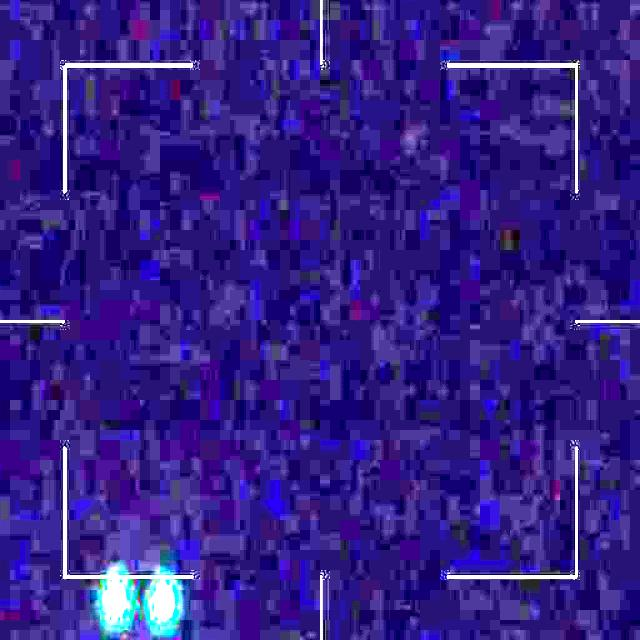bird: (102, 579, 179, 629)
